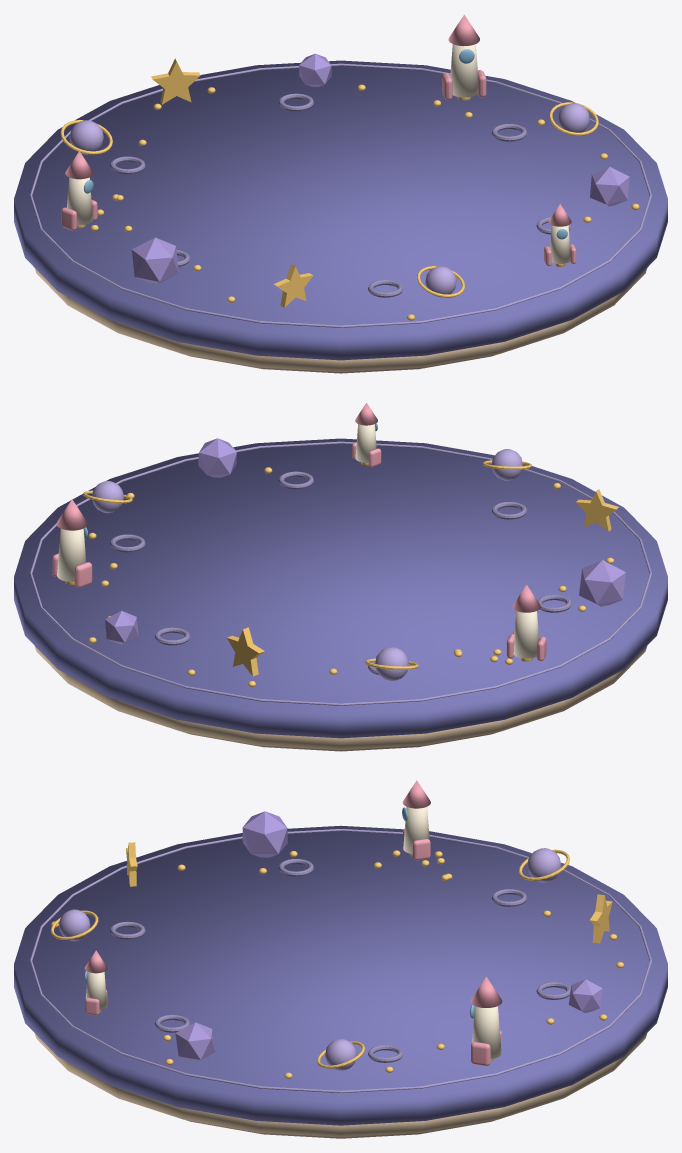
File: world.glb
3 renders of one model, top to bottom at view 1: azimuth 30°, elevation 25°; view 2: azimuth 150°, elevation 25°; view 3: azimuth 270°, elevation 25°, orthographic.
Parts seen in each view (by area): view 1: Cone, Cone.001, Torus.047, rocket.001, rocket.002, gem.002, rocket.003, planet.002, gem.003, planet.001, star.001, planet.003 (+3 smaller); view 2: Cone, Cone.001, Torus.047, rocket.001, rocket.002, gem.002, rocket.003, gem.003, planet.002, planet.001, star.001, planet.003 (+3 smaller); view 3: Cone, Cone.001, Torus.047, rocket.001, rocket.002, gem.002, gem.003, rocket.003, planet.002, planet.003, planet.001, gem.001 (+2 smaller).
Part boxes in pixels (x1=…): Cone: x1=14, y1=60, x2=667, y2=360; Cone.001: x1=34, y1=268, x2=647, y2=371; Torus.047: x1=30, y1=63, x2=651, y2=327; rocket.001: x1=442, y1=14, x2=486, y2=100; rocket.002: x1=61, y1=151, x2=97, y2=230; gem.002: x1=132, y1=237, x2=178, y2=284; rocket.003: x1=544, y1=204, x2=576, y2=266; planet.002: x1=60, y1=120, x2=112, y2=154; gem.003: x1=590, y1=167, x2=629, y2=206; planet.001: x1=549, y1=102, x2=598, y2=135; star.001: x1=151, y1=58, x2=200, y2=104; planet.003: x1=417, y1=266, x2=464, y2=297; Cone: x1=14, y1=438, x2=667, y2=738; Cone.001: x1=34, y1=646, x2=647, y2=749; Torus.047: x1=30, y1=441, x2=651, y2=705; rocket.001: x1=52, y1=499, x2=92, y2=587; rocket.002: x1=506, y1=584, x2=546, y2=661; gem.002: x1=579, y1=560, x2=625, y2=606; rocket.003: x1=352, y1=403, x2=381, y2=467; gem.003: x1=198, y1=438, x2=236, y2=477; planet.002: x1=365, y1=647, x2=418, y2=681; planet.001: x1=83, y1=481, x2=132, y2=513; star.001: x1=227, y1=627, x2=264, y2=676; planet.003: x1=482, y1=449, x2=531, y2=480; Cone: x1=14, y1=825, x2=667, y2=1125; Cone.001: x1=34, y1=1033, x2=647, y2=1137; Torus.047: x1=30, y1=829, x2=651, y2=1092; rocket.001: x1=470, y1=976, x2=502, y2=1065; rocket.002: x1=402, y1=780, x2=430, y2=860; gem.002: x1=242, y1=811, x2=287, y2=857; gem.003: x1=175, y1=1022, x2=215, y2=1061; rocket.003: x1=84, y1=950, x2=107, y2=1015; planet.002: x1=518, y1=848, x2=569, y2=882; planet.003: x1=51, y1=909, x2=98, y2=941; planet.001: x1=317, y1=1038, x2=364, y2=1070; gem.001: x1=568, y1=979, x2=602, y2=1012.
Size of the model in its own units: 9.6 by 2.12 by 9.6.
